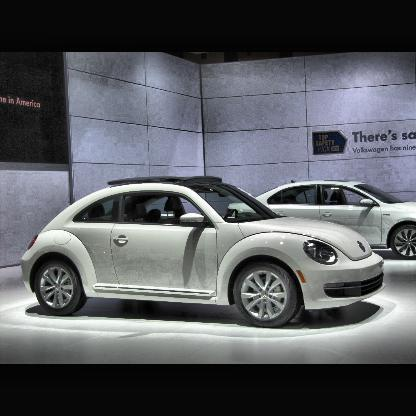Volkswagen Beetle Hatchback 2012: (23, 178, 386, 327)
